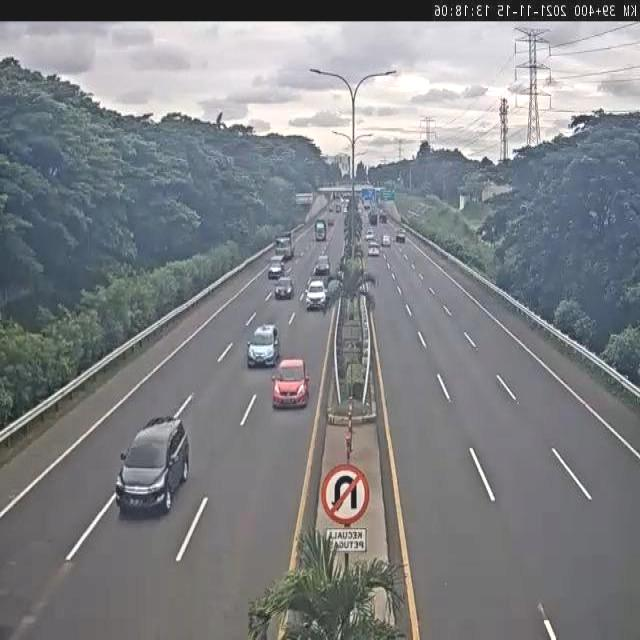Car: (114, 411, 195, 526), (270, 353, 320, 416), (246, 325, 281, 368), (306, 278, 328, 310), (274, 276, 294, 300), (314, 256, 330, 276), (268, 260, 284, 279), (368, 244, 380, 256), (382, 235, 391, 246), (396, 232, 405, 242), (380, 212, 388, 223), (366, 230, 374, 240), (328, 217, 334, 226), (342, 204, 348, 213), (336, 204, 342, 212), (364, 202, 370, 210)
Truck: (311, 216, 330, 240), (276, 231, 293, 257)
